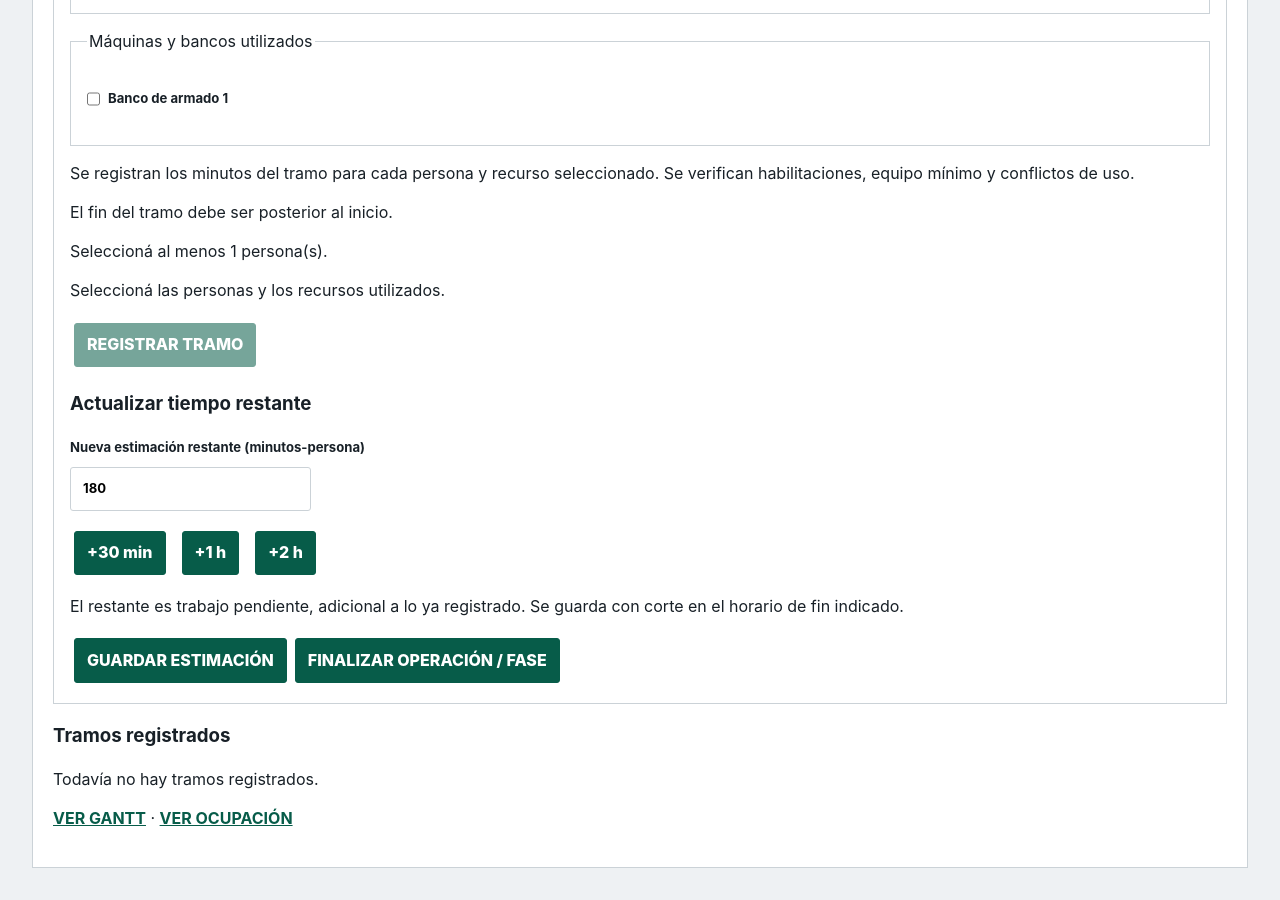
atajo agrega 30 minutos
The image size is (1280, 900).
(page scrolled)
Expected: the heading "Actualizar tiempo restante" is shown, [70,392,312,415]
Click the button "+30 min". click: coordinates (120, 553)
box: [74,531,166,575]
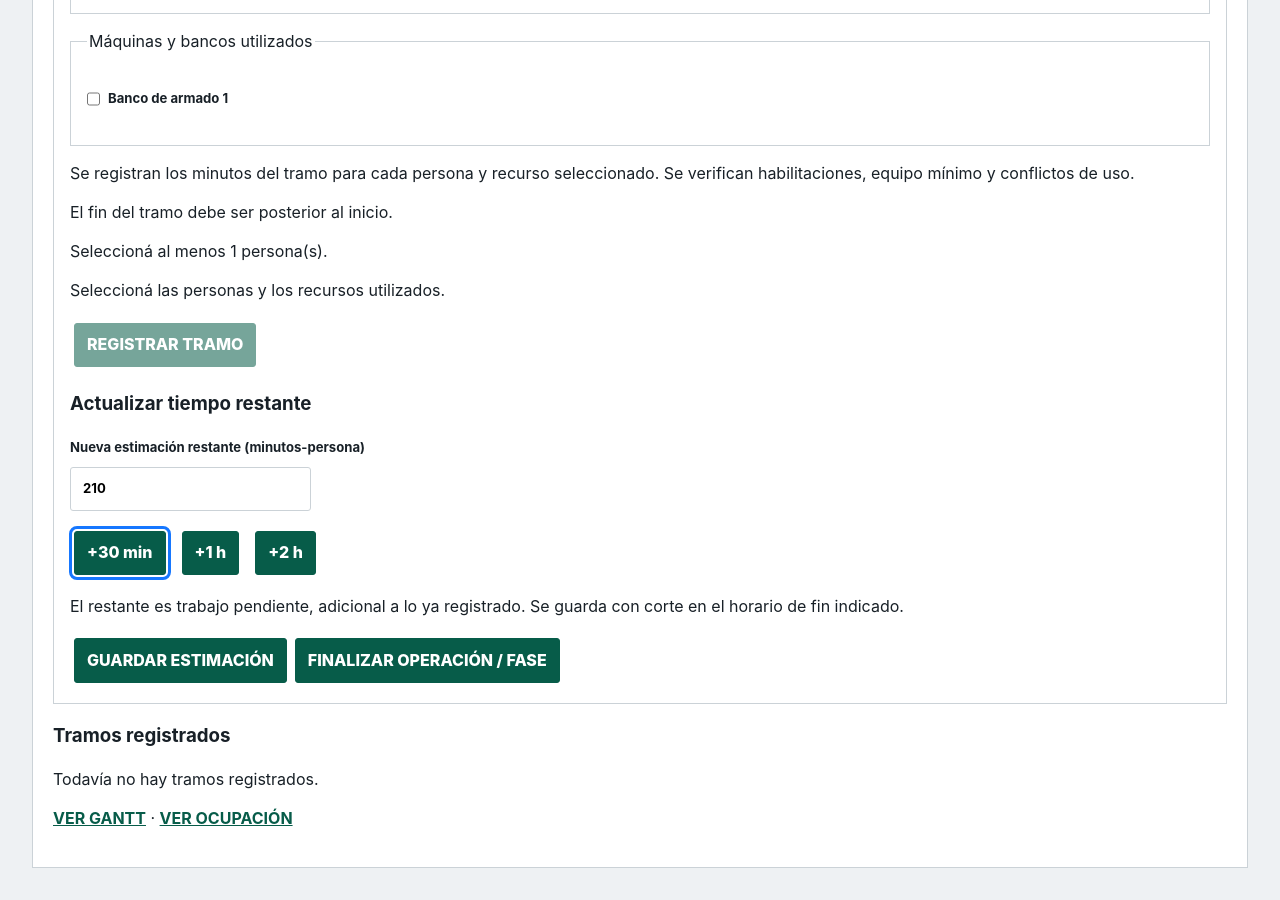
Expected: the number field labelled "Nueva estimación restante (minutos-persona)" holds "210", [70,467,311,511]
